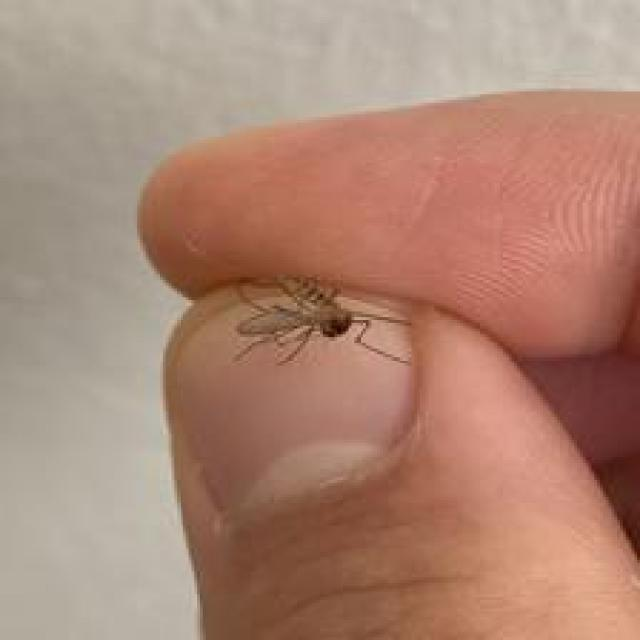Culex: (230, 272, 413, 368)
